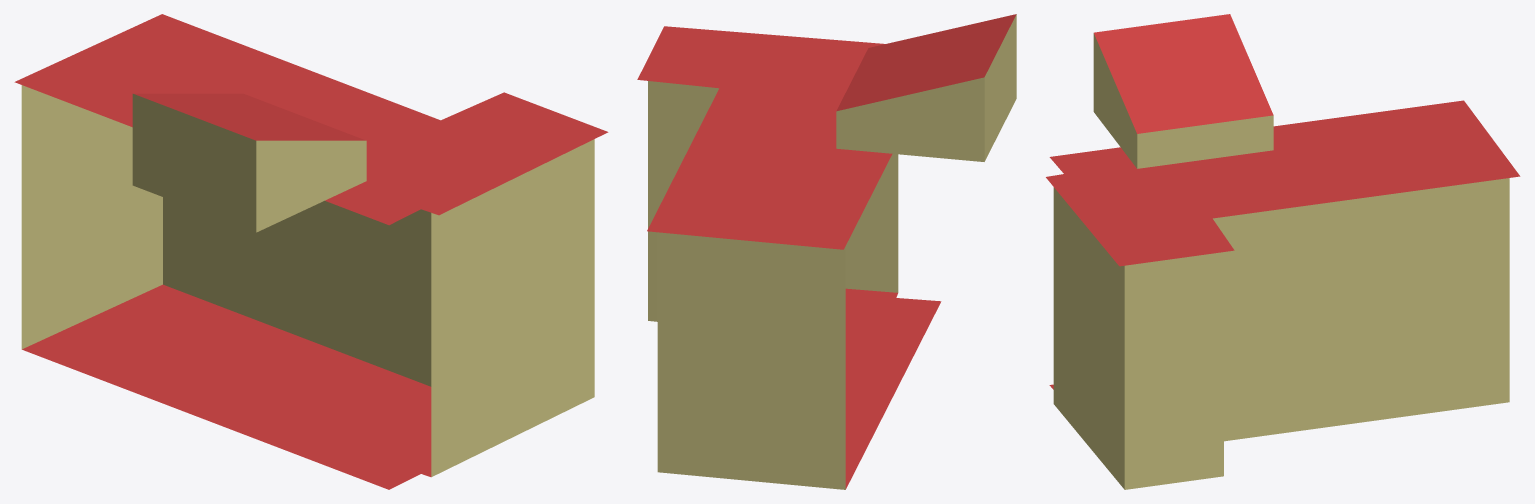
3 renders of one model, left to right at view 1: azimuth 30°, elevation 25°; view 2: azimuth 150°, elevation 25°; view 3: azimuth 270°, elevation 25°, orthographic. The views are drawn at different scales.
Size of the model in its own units: 11.92 by 13.82 by 9.86.
